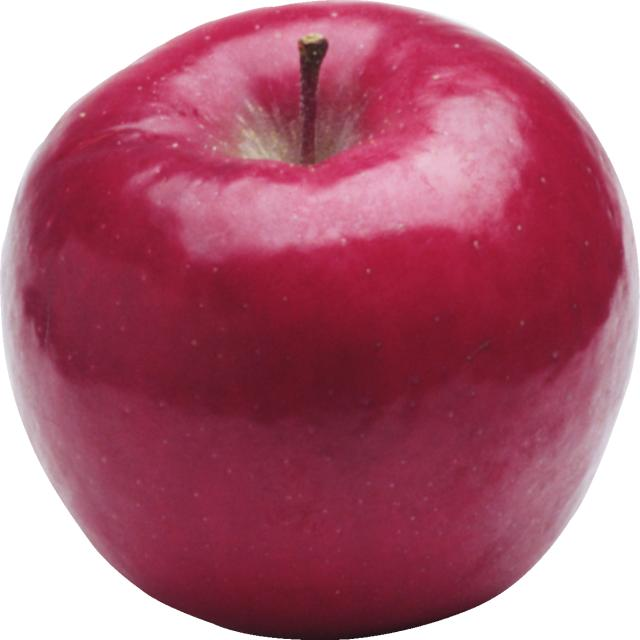apple: (6, 1, 639, 636)
